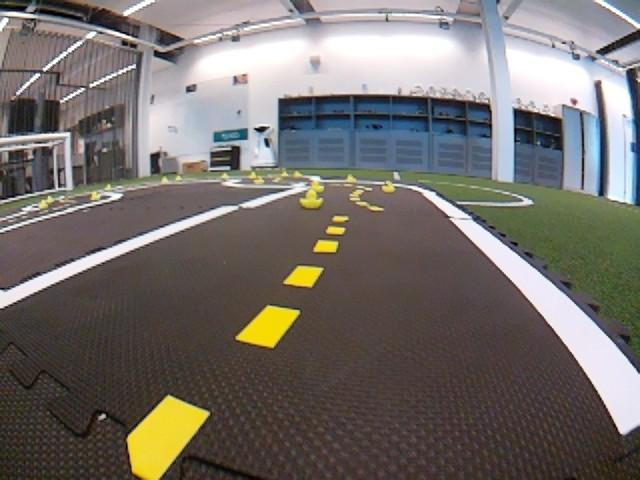Duckies: (298, 190, 324, 209), (382, 180, 397, 194), (310, 181, 325, 192), (37, 199, 49, 209), (344, 174, 356, 183), (252, 177, 265, 184), (90, 192, 100, 200), (293, 171, 303, 179), (46, 196, 55, 204), (221, 172, 229, 179), (161, 176, 169, 183), (174, 175, 182, 182), (104, 184, 112, 190), (250, 172, 256, 179), (282, 169, 287, 177)
